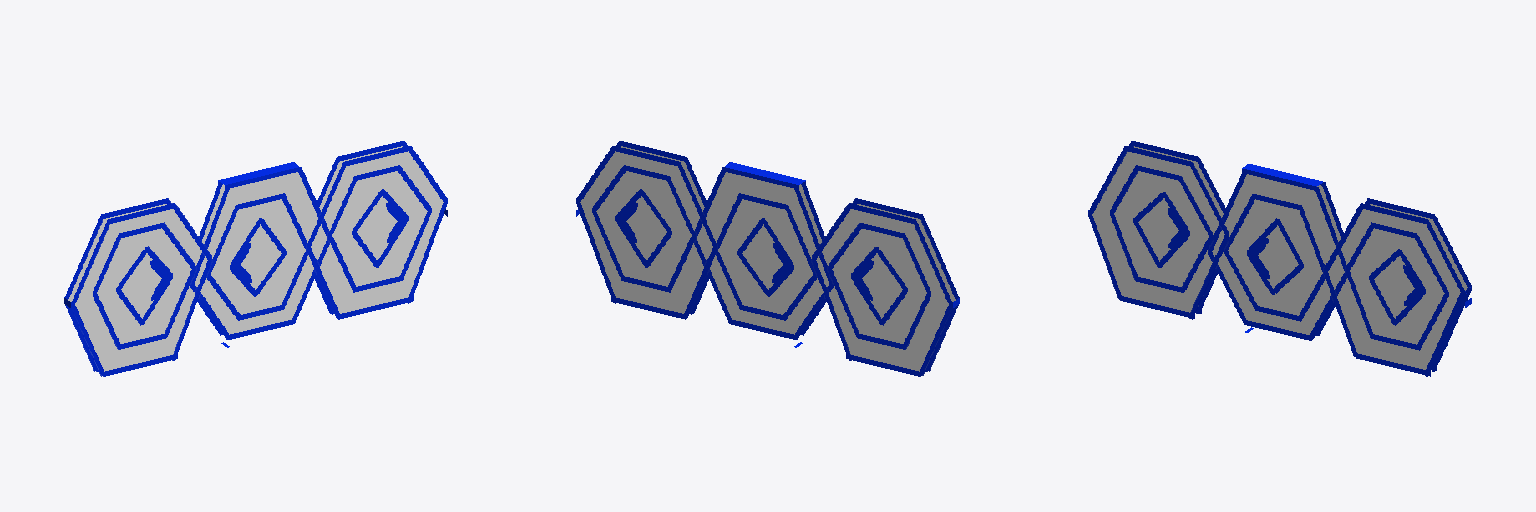
3 renders of one model, left to right at view 1: azimuth 30°, elevation 25°; view 2: azimuth 150°, elevation 25°; view 3: azimuth 330°, elevation 25°, orthographic.
Parts seen in each view (by area): view 1: pPlane1; view 2: pPlane1; view 3: pPlane1.
Part boxes in pixels (bbox=[...]): pPlane1: bbox=[64, 141, 447, 376]; pPlane1: bbox=[576, 141, 959, 376]; pPlane1: bbox=[1088, 141, 1471, 376].
Size of the model in its own units: 4.63 by 1.92 by 0.1454.
Materials: 1 (1 with a texture image).